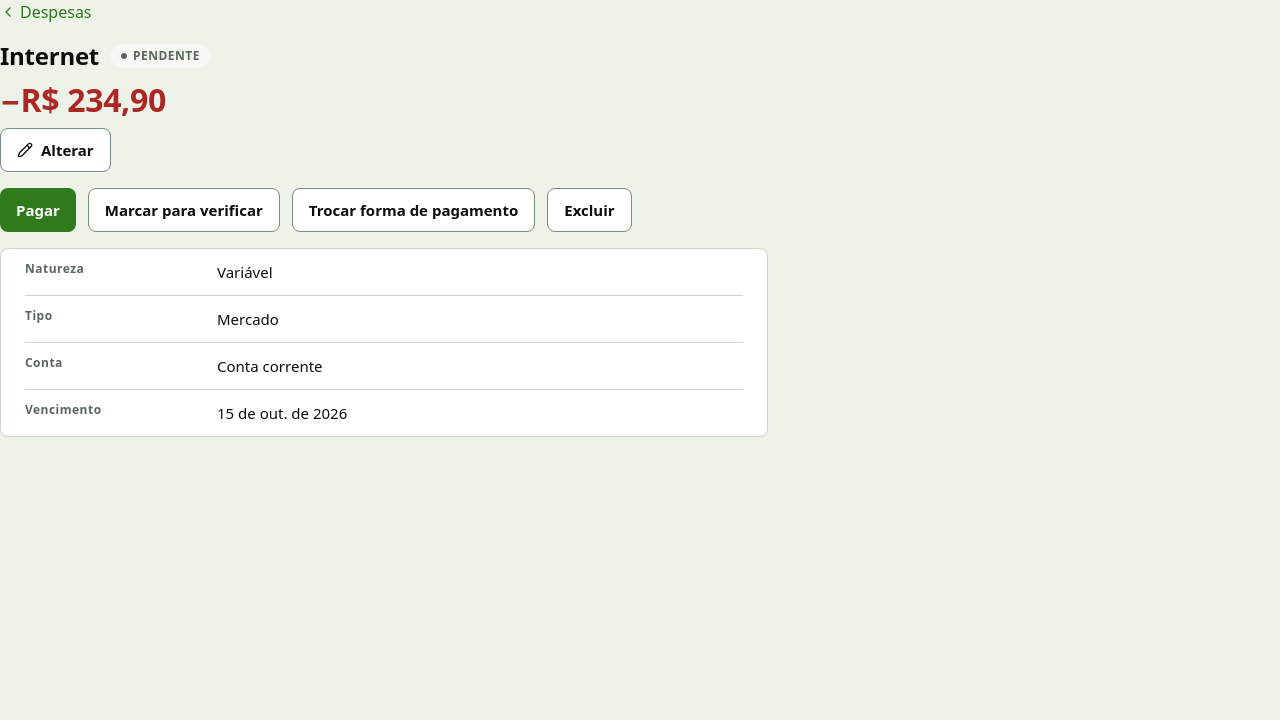
Test: ExpenseDetailPage actions (spec 0012) › pays an account expense with today as the default date
Click the button "Pagar".
click(38, 210)  # box x1=0 y1=188 x2=76 y2=232
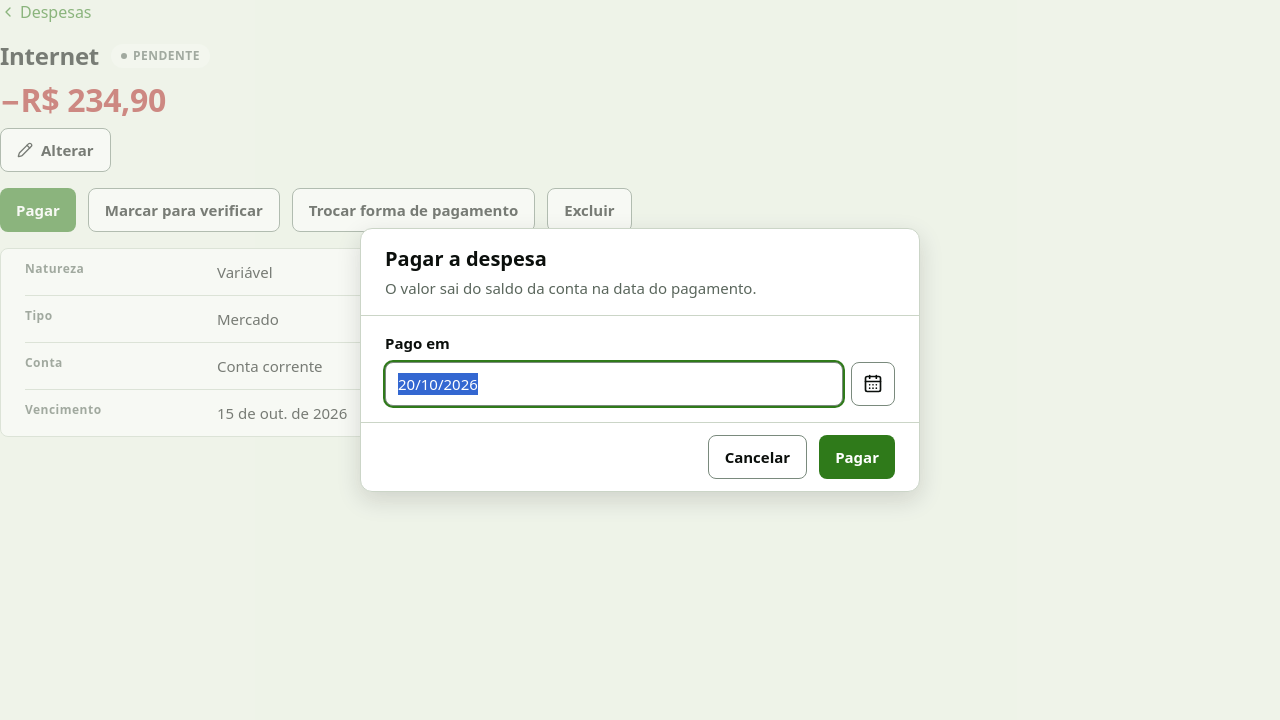
Result: the field labelled "Pago em" holds "20/10/2026" at x1=385 y1=362 x2=843 y2=406
Click the button "Pagar".
click(857, 457)  # box x1=819 y1=435 x2=895 y2=479
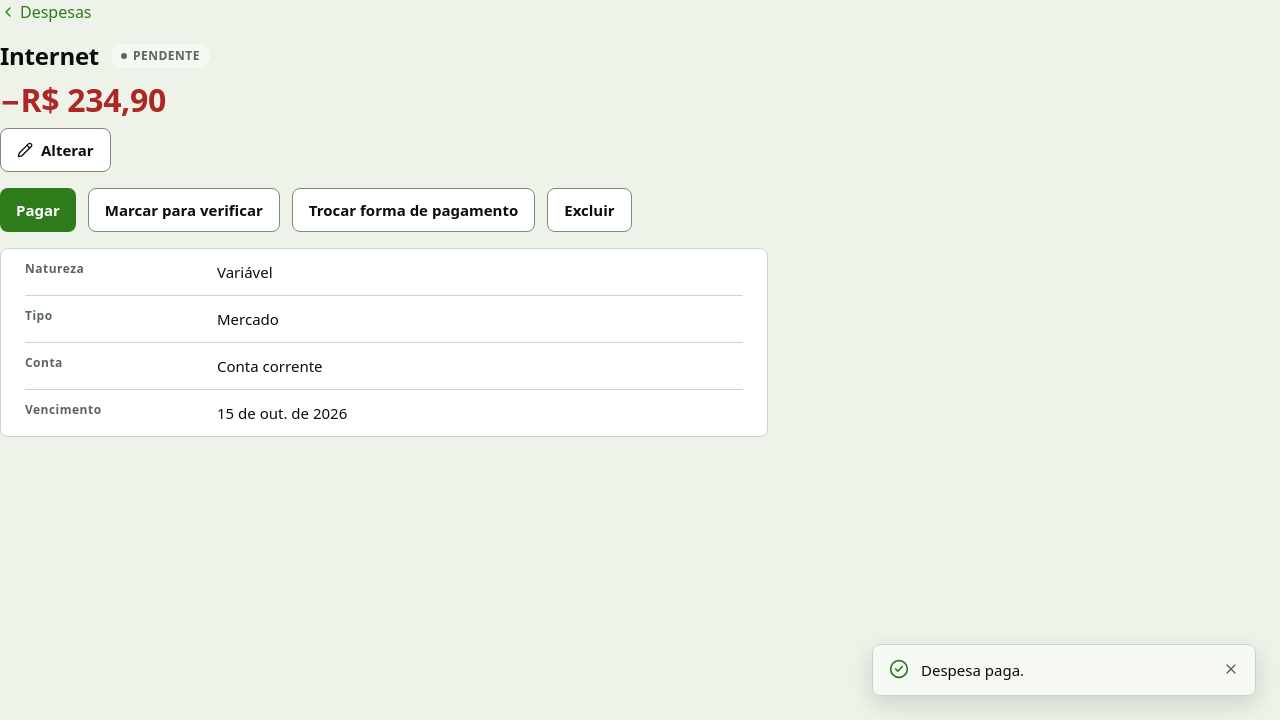
Result: the text "Despesa paga." is shown at x1=921 y1=660 x2=1024 y2=680
